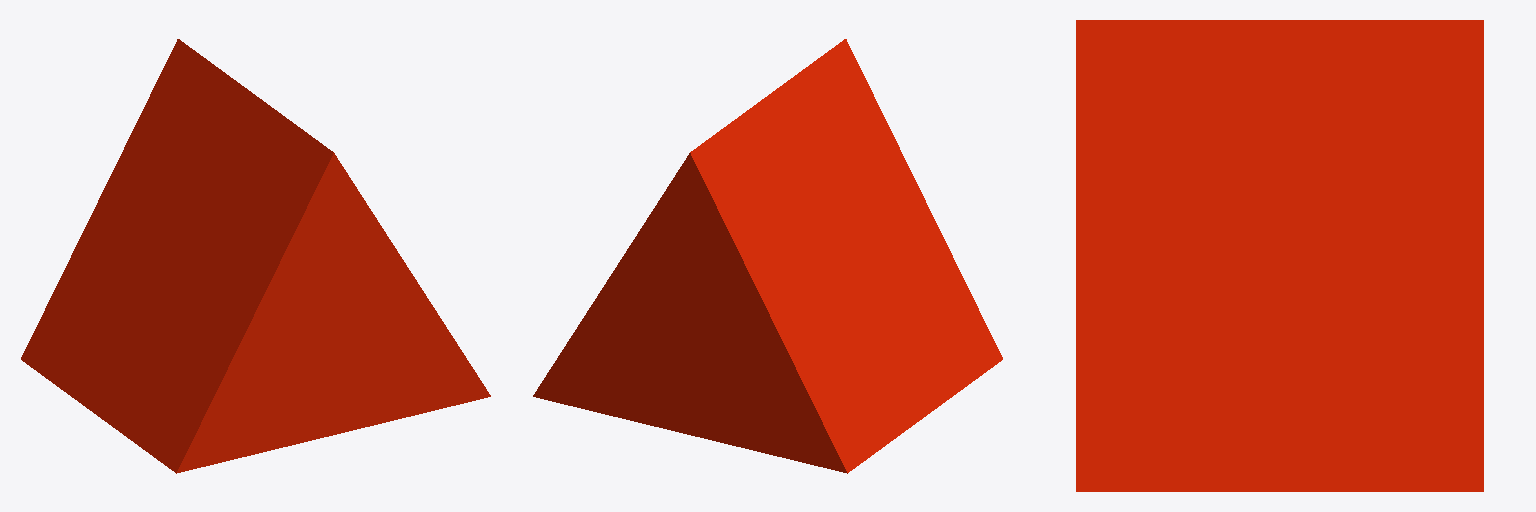
The robot description file, URDF, robot "roof_object":
<?xml version="1.0"?>
<robot name="roof_object">
  <!--
    Solid triangular prism / roof object.
    Overall dimensions: width X=0.070 m, depth Y=0.060 m,
    height Z=0.060 m. The link frame is centered in X/Y and
    lies on the bottom plane at Z=0.
  -->
  <material name="RoofOrangeRed">
    <color rgba="0.90 0.20 0.05 1.0"/>
  </material>

  <link name="roof_link">
    <!-- Center of mass of a uniform triangular prism is at z = h/3. -->
    <inertial>
      <origin xyz="0 0 0.020" rpy="0 0 0"/>
      <mass value="0.1"/>
      <!-- Uniform-solid values for b=0.070, d=0.060, h=0.060 m. -->
      <inertia
        ixx="5.0000e-05" ixy="0" ixz="0"
        iyy="4.0417e-05" iyz="0" izz="5.0417e-05"/>
    </inertial>

    <visual>
      <origin xyz="0 0 0" rpy="0 0 0"/>
      <geometry>
        <mesh filename="roof_object.obj" scale="1 1 1"/>
      </geometry>
      <material name="RoofOrangeRed"/>
    </visual>

    <collision>
      <origin xyz="0 0 0" rpy="0 0 0"/>
      <geometry>
        <mesh filename="roof_object.obj" scale="1 1 1"/>
      </geometry>
    </collision>
  </link>
</robot>

--- What the picture shows (computed from the rendered views, not written in the file) ---
3 views of the same robot in one strip: view 1: azimuth 30°, elevation 25°; view 2: azimuth 150°, elevation 25°; view 3: azimuth 270°, elevation 25° (orthographic).
Model roof_object with 1 links and 0 joints (none), rooted at roof_link, posed every joint at zero.
Links seen in each view (by area): view 1: roof_link; view 2: roof_link; view 3: roof_link.
Link boxes in pixels (x1,y1,x2,y2): roof_link: [21, 39, 490, 473]; roof_link: [533, 39, 1002, 473]; roof_link: [1076, 20, 1483, 491].
Size in the robot's own frame: 0.07 by 0.06 by 0.06 metres.
1 mesh visuals loaded from 1 distinct referenced files (1 OBJ).
